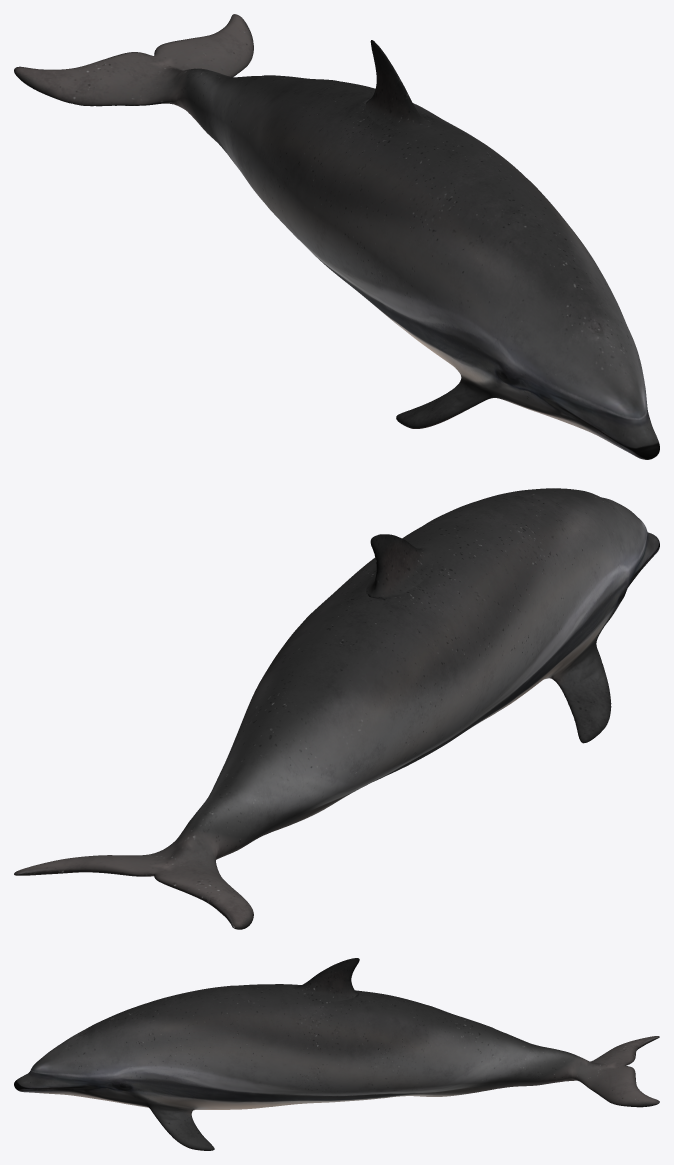
File: FrasersDolphinExport.fbx
The picture shows the model from 3 angles, top to bottom: view 1: azimuth 30°, elevation 25°; view 2: azimuth 150°, elevation 25°; view 3: azimuth 270°, elevation 25°; orthographic projection. The views are drawn at different scales.
Parts seen in each view (by area): view 1: frasers-dolphin-deformed-mesh; view 2: frasers-dolphin-deformed-mesh; view 3: frasers-dolphin-deformed-mesh.
Part boxes in pixels (box(x1,y1,x2,y2)): frasers-dolphin-deformed-mesh: box(14, 14, 659, 459); frasers-dolphin-deformed-mesh: box(14, 488, 659, 929); frasers-dolphin-deformed-mesh: box(14, 958, 659, 1150).
Bounding box in the file's own units: 2.42 × 2.75 × 9.77.
